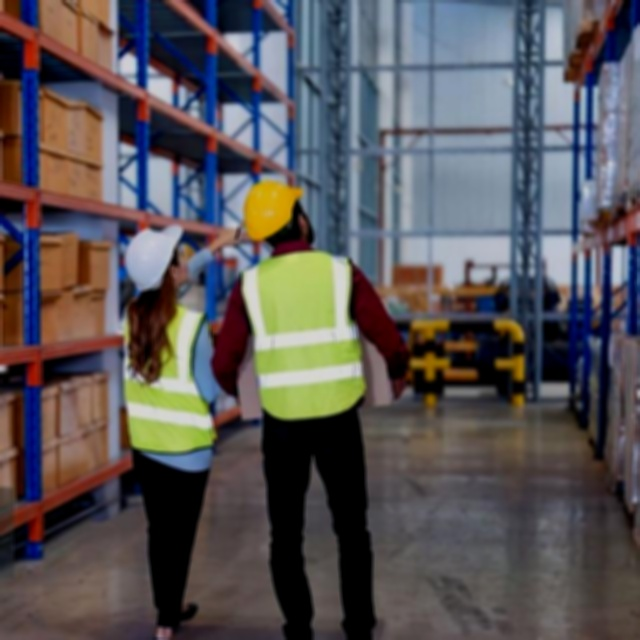Con_Casco: (122, 225, 202, 304)
Con_Chaleco: (245, 248, 357, 426), (121, 303, 216, 457)
